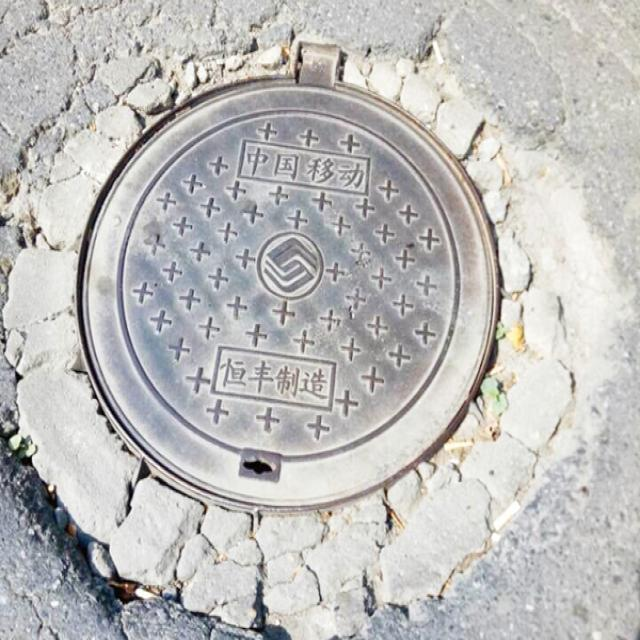manhole: (78, 44, 499, 511)
